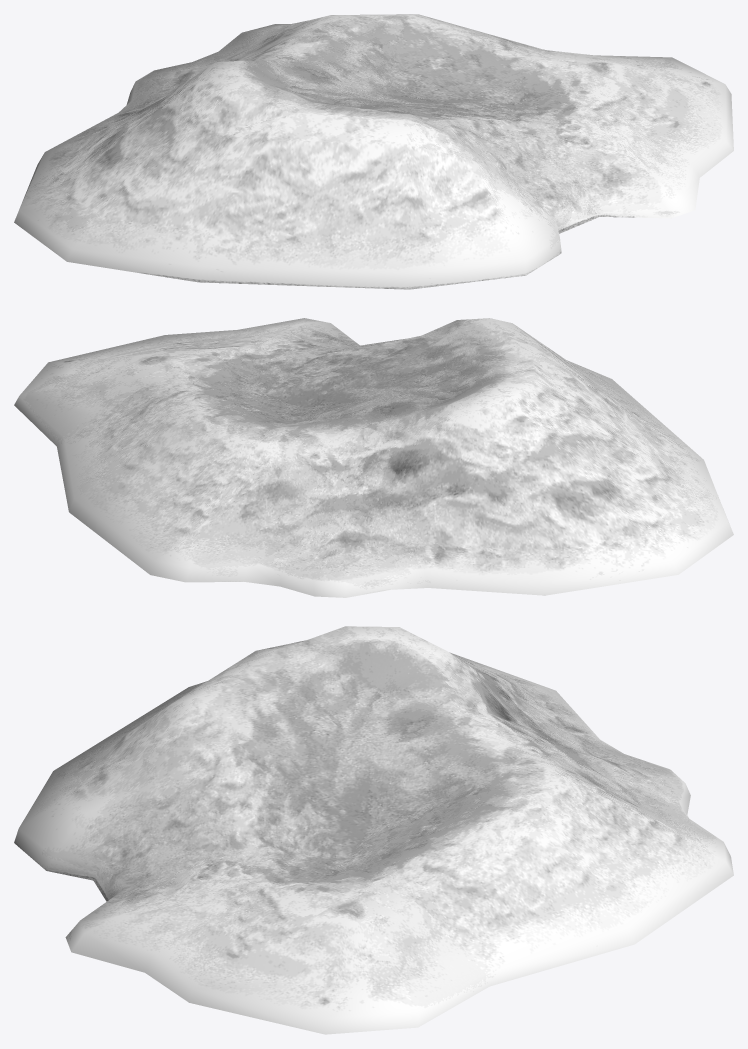
File: 213_a_pile_of_debris_LP.fbx
3 renders of one model, top to bottom at view 1: azimuth 30°, elevation 25°; view 2: azimuth 150°, elevation 25°; view 3: azimuth 270°, elevation 25°, orthographic. The views are drawn at different scales.
Visible parts, largest first — view 1: 213_a_pile_of_debris_low; view 2: 213_a_pile_of_debris_low; view 3: 213_a_pile_of_debris_low.
Part boxes in pixels (x1,y1,x2,y2): 213_a_pile_of_debris_low: [14, 14, 733, 289]; 213_a_pile_of_debris_low: [14, 318, 733, 597]; 213_a_pile_of_debris_low: [14, 626, 733, 1034].
Size of the model in its own units: 27.3 by 4.49 by 22.
